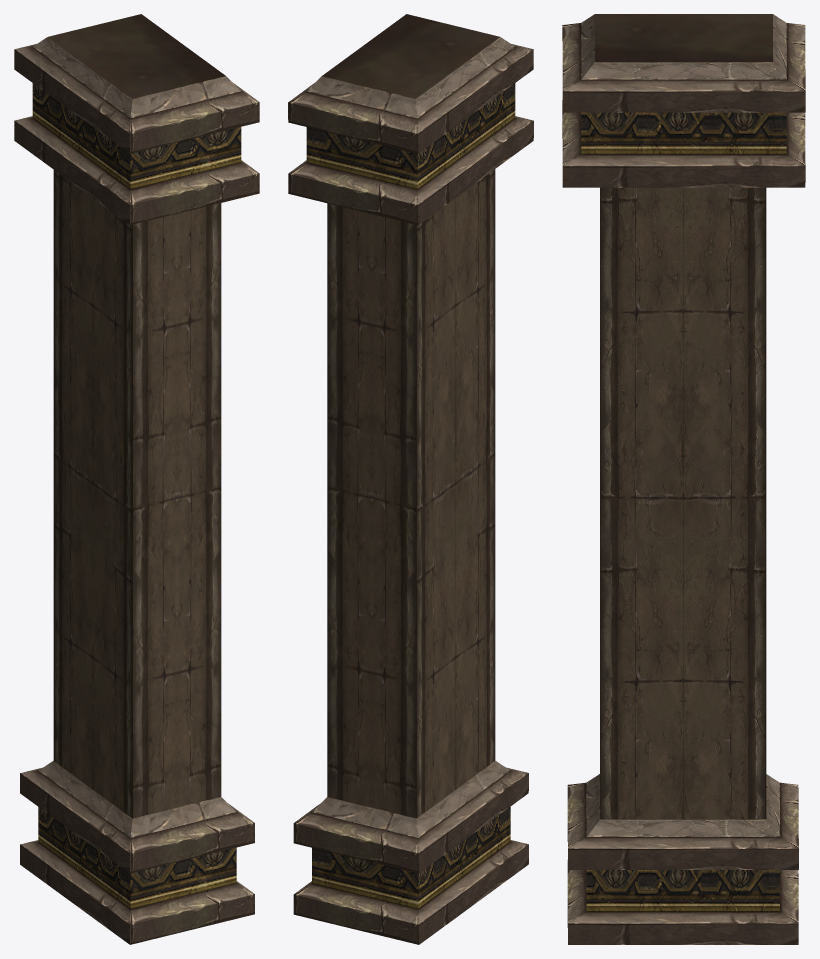
The model's file is A03_pillar_e_un.FBX.
3 views of the same model, side by side, from view 1: azimuth 30°, elevation 25°; view 2: azimuth 150°, elevation 25°; view 3: azimuth 270°, elevation 25° (orthographic). The views are drawn at different scales.
Parts seen in each view (by area): view 1: A03_pillar_e_un; view 2: A03_pillar_e_un; view 3: A03_pillar_e_un.
Boxes of the visible parts, x1,y1,x2,y2 form: A03_pillar_e_un: (14, 14, 259, 944); A03_pillar_e_un: (288, 14, 533, 944); A03_pillar_e_un: (562, 14, 805, 944).
Size of the model in its own units: 2.19 by 13.41 by 3.38.
